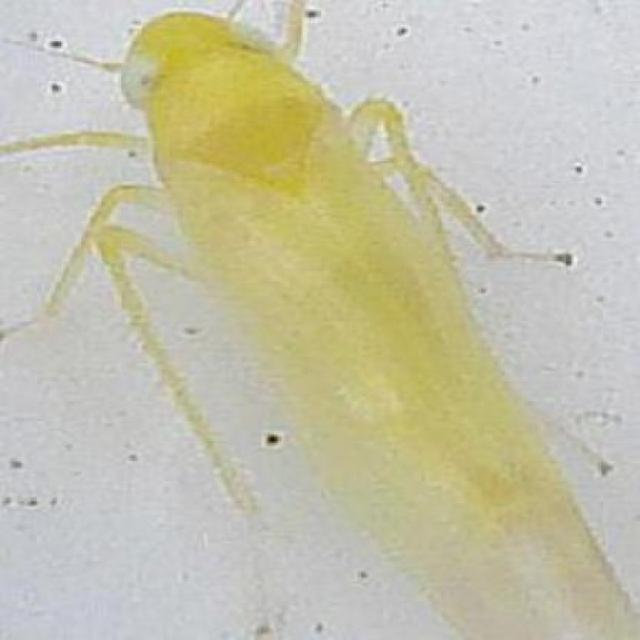green-leafhopper: (116, 17, 630, 635)
